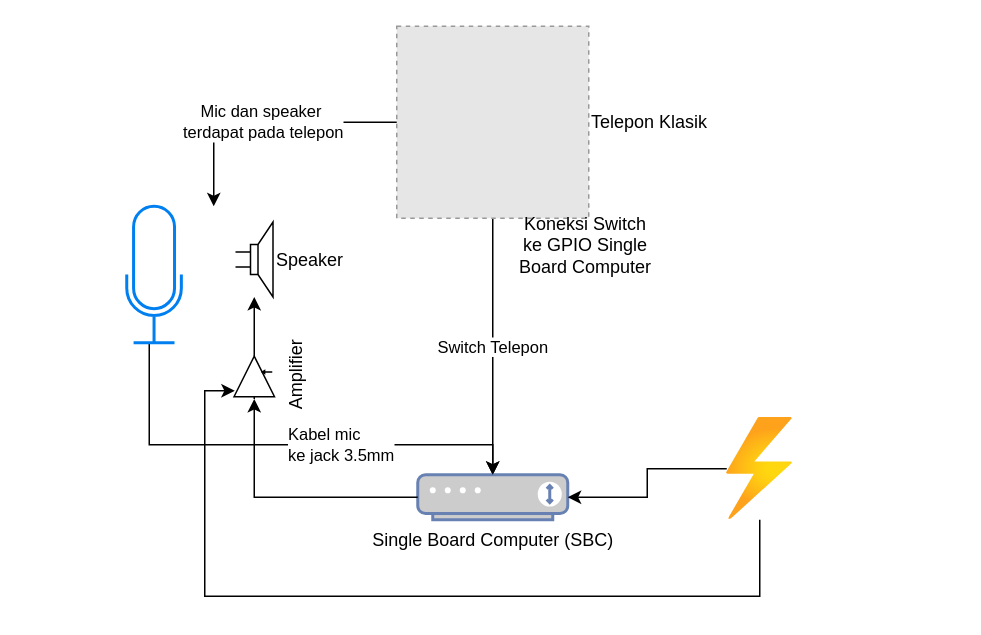
Some shapes in this 981 by 635 pixel diagram are drawn without their labels. Grey dashed boxes stand in for pictures. Each missing label, with the centre of its shape:
"Adapter Power SBC" belongs at point 759,468.
"Microphone" belongs at point 153,274.
